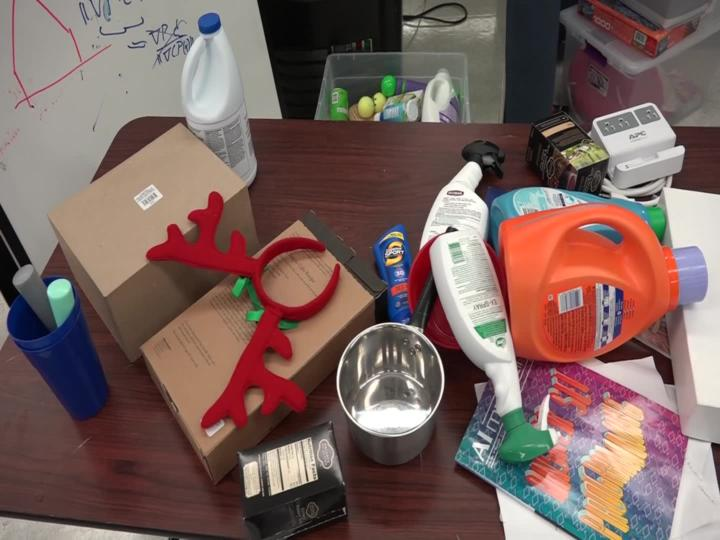downy: (474, 172, 678, 268)
